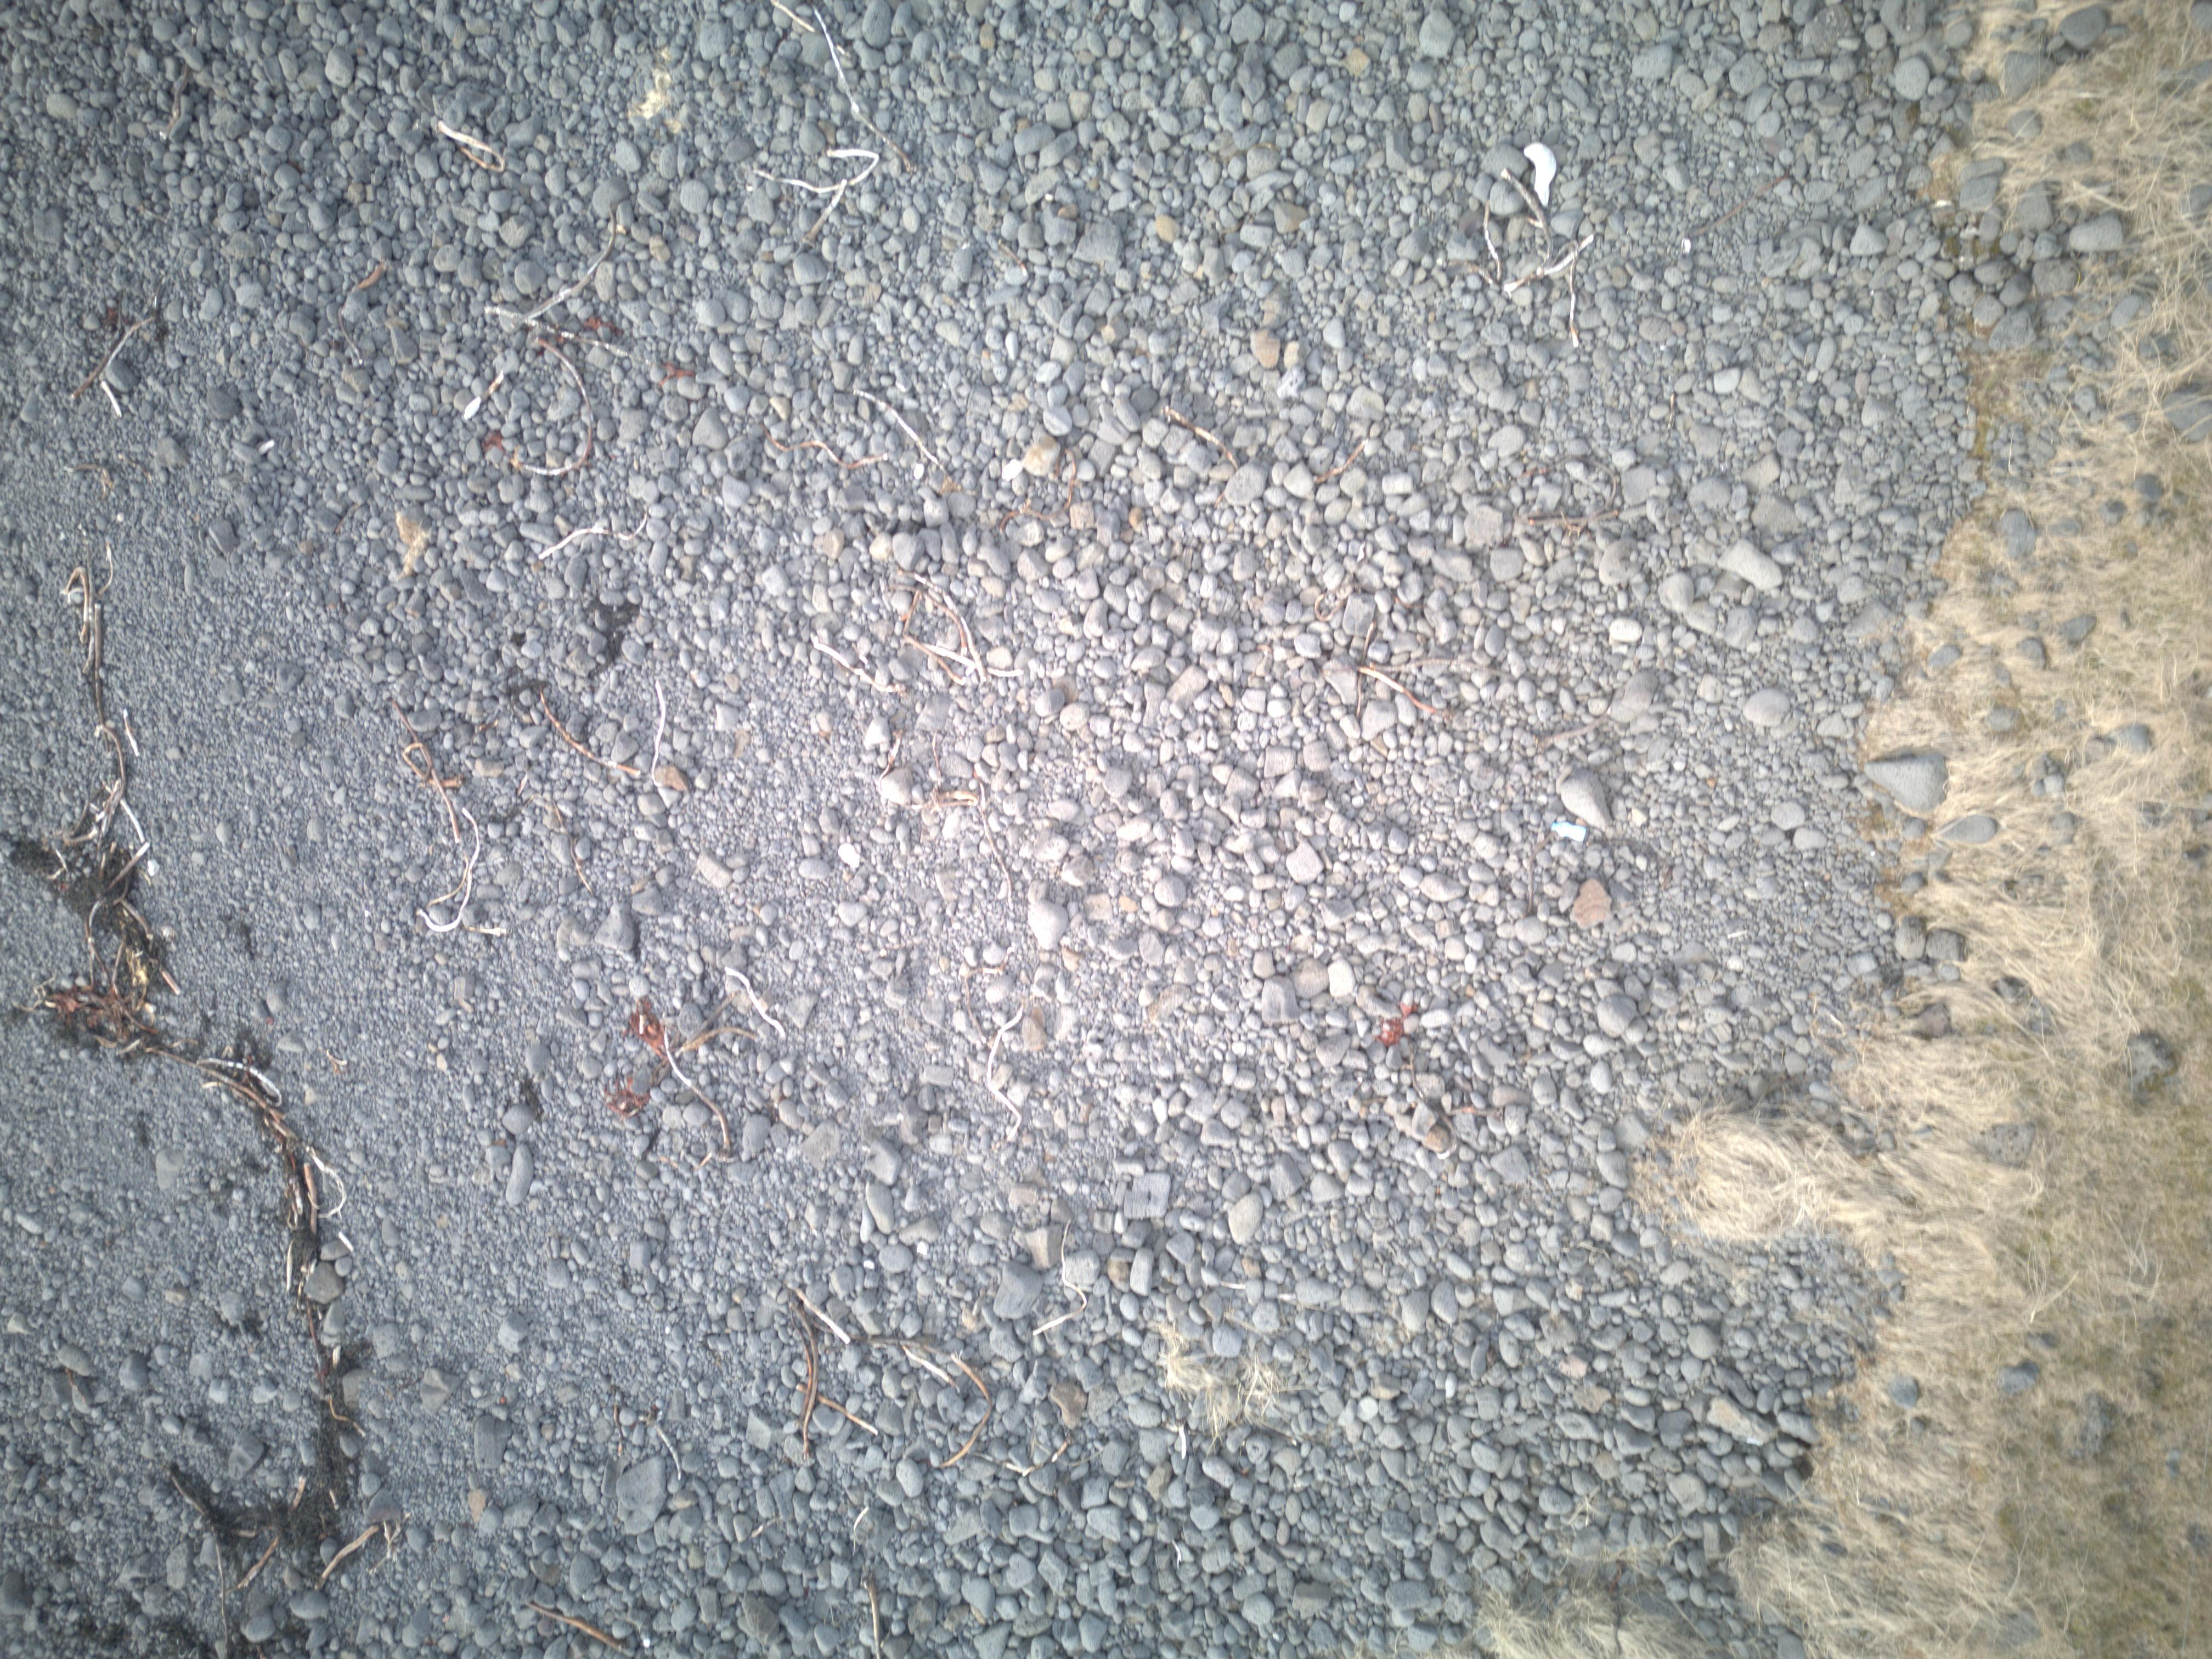trash: (1550, 817, 1590, 847)
